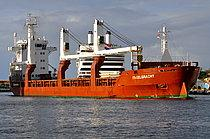Ship: (6, 6, 208, 107)
